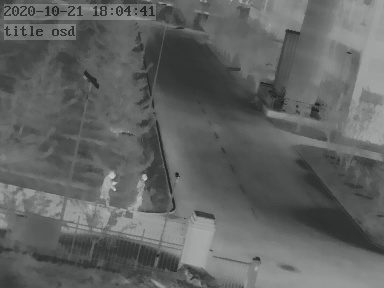person: (130, 171, 149, 221), (96, 170, 118, 209)
